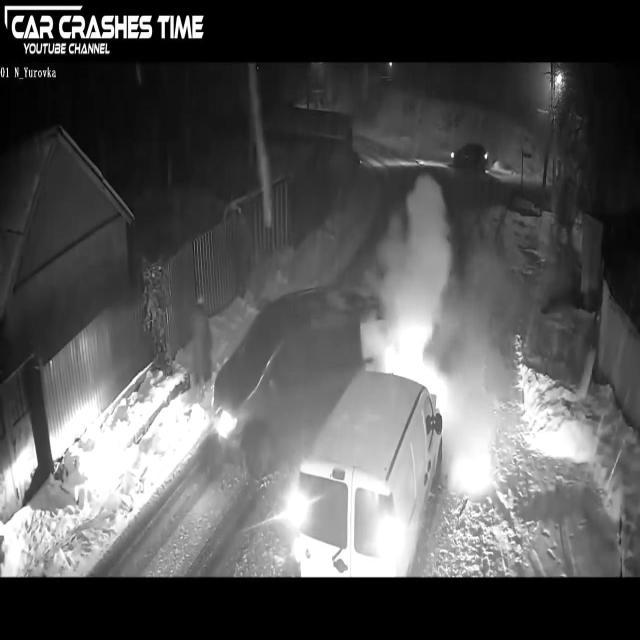accident: (204, 255, 451, 579)
